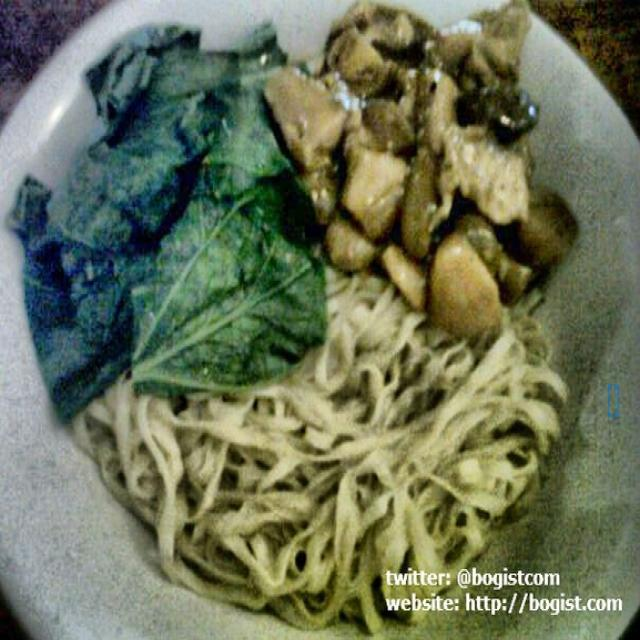面条主食: (31, 24, 613, 612)
